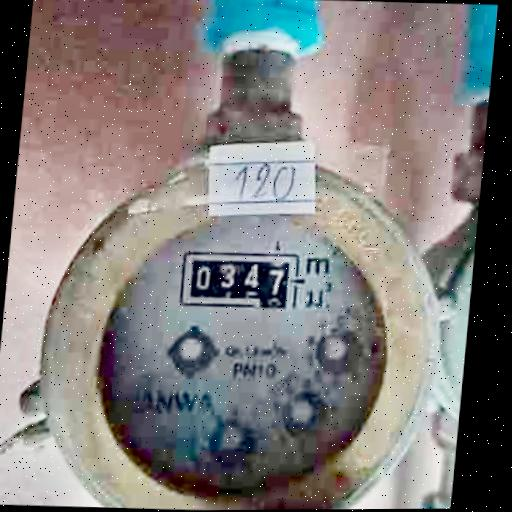0: (187, 258, 216, 298)
3: (212, 259, 239, 299)
4: (235, 258, 262, 299)
7: (257, 259, 289, 307)
border_water_meter_number: (176, 249, 301, 309)
